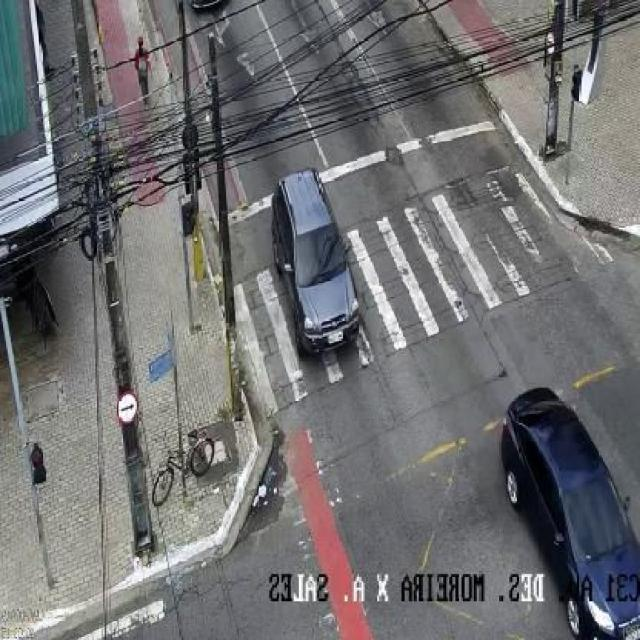Car: (502, 385, 640, 639), (272, 169, 362, 358)
Cycle: (151, 430, 216, 507)
